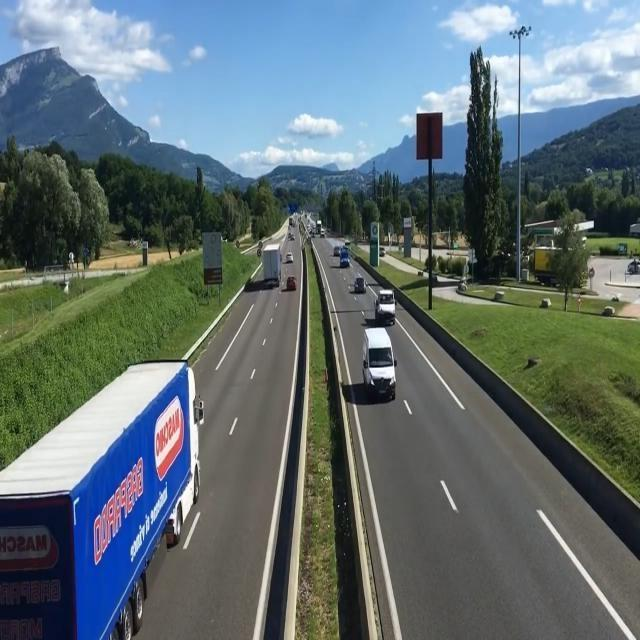Car: (353, 275, 368, 293), (286, 276, 297, 291), (286, 252, 294, 263)
Truck: (0, 360, 202, 640), (262, 243, 283, 288)
Van: (362, 327, 399, 400), (374, 288, 398, 324)
